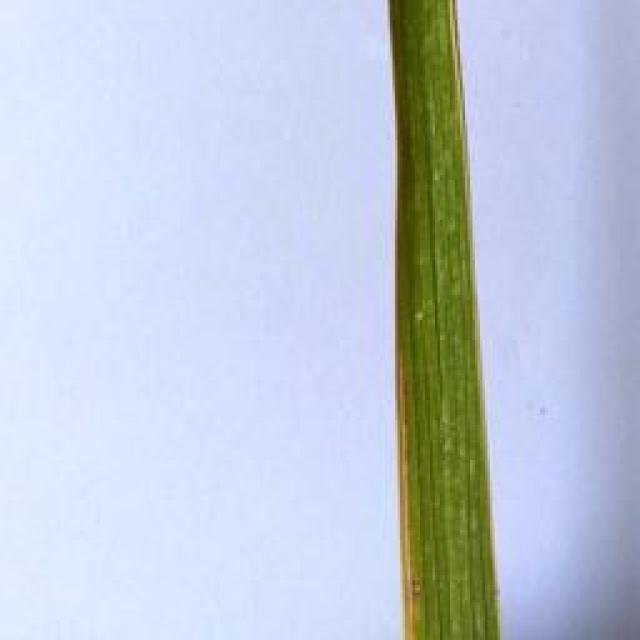Unhealthy: (394, 301, 419, 640)
